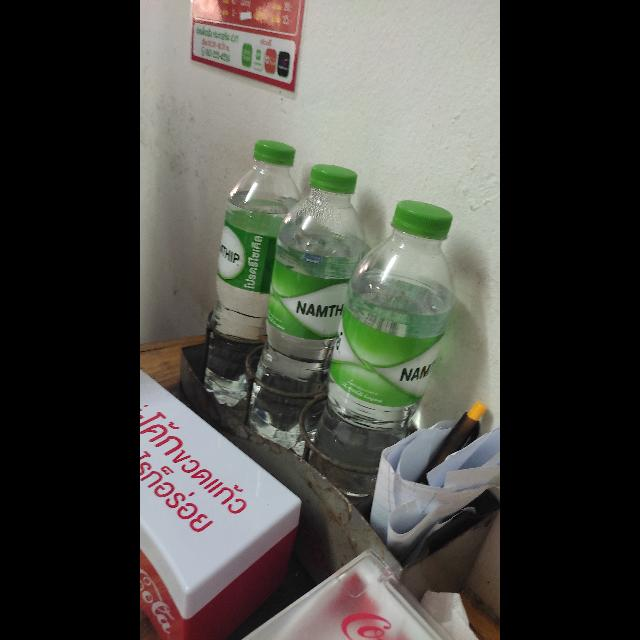plastic_bottle: (302, 196, 464, 490), (251, 158, 394, 438), (198, 138, 318, 402)
plastic_bottle_cap: (392, 200, 453, 247), (307, 162, 359, 195), (256, 138, 294, 172)
scrap_paper: (370, 414, 500, 554)
